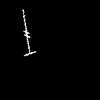treble_crochet: (23, 10, 34, 55)
